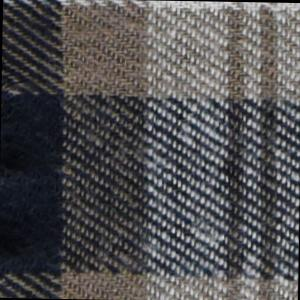Wrinkle: (1, 151, 63, 281)
